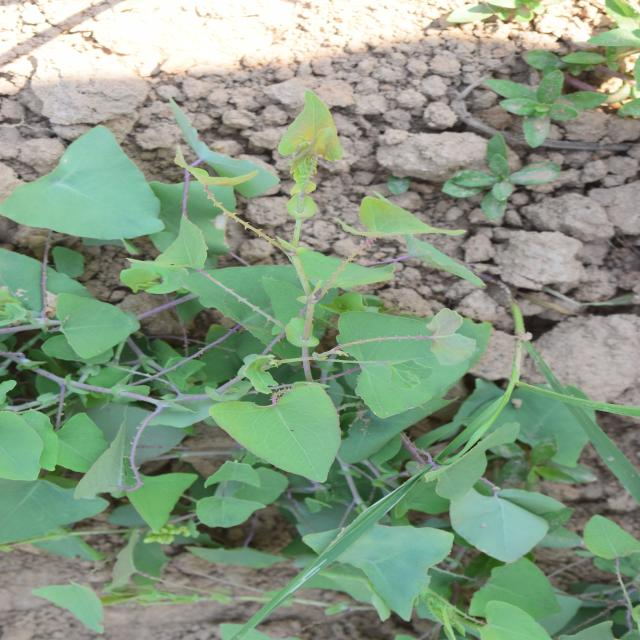Asiatic_Smartweed: (156, 189, 348, 468), (363, 132, 525, 438), (378, 11, 524, 173)
